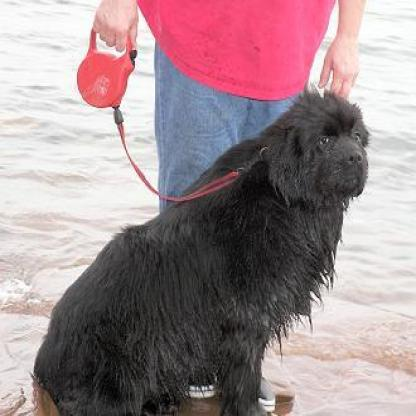Newfoundland: (34, 83, 367, 413)
